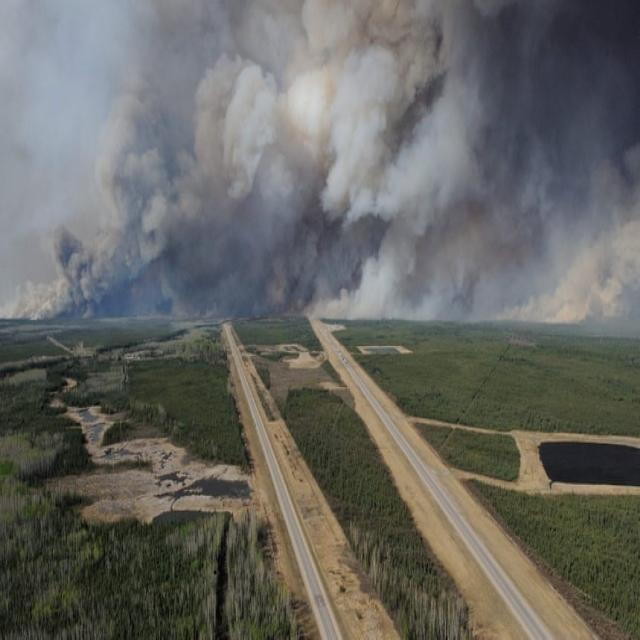Smoke: (29, 35, 610, 326)
